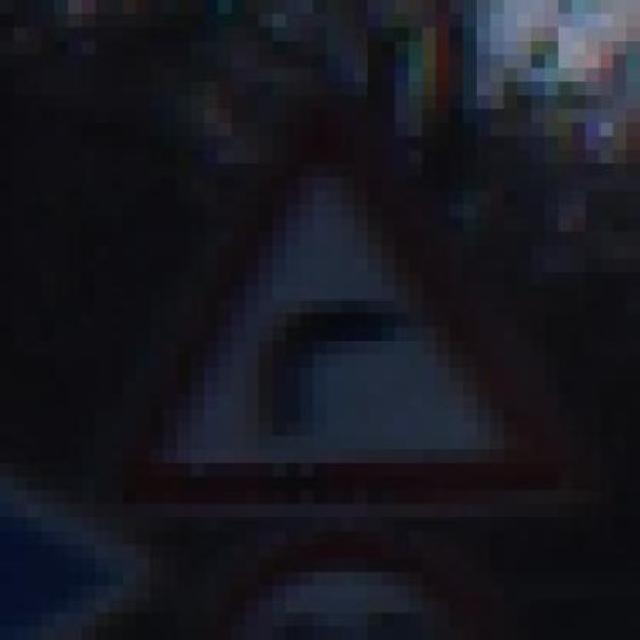Dangerous Rright Curve Ahead: (96, 109, 586, 545)
